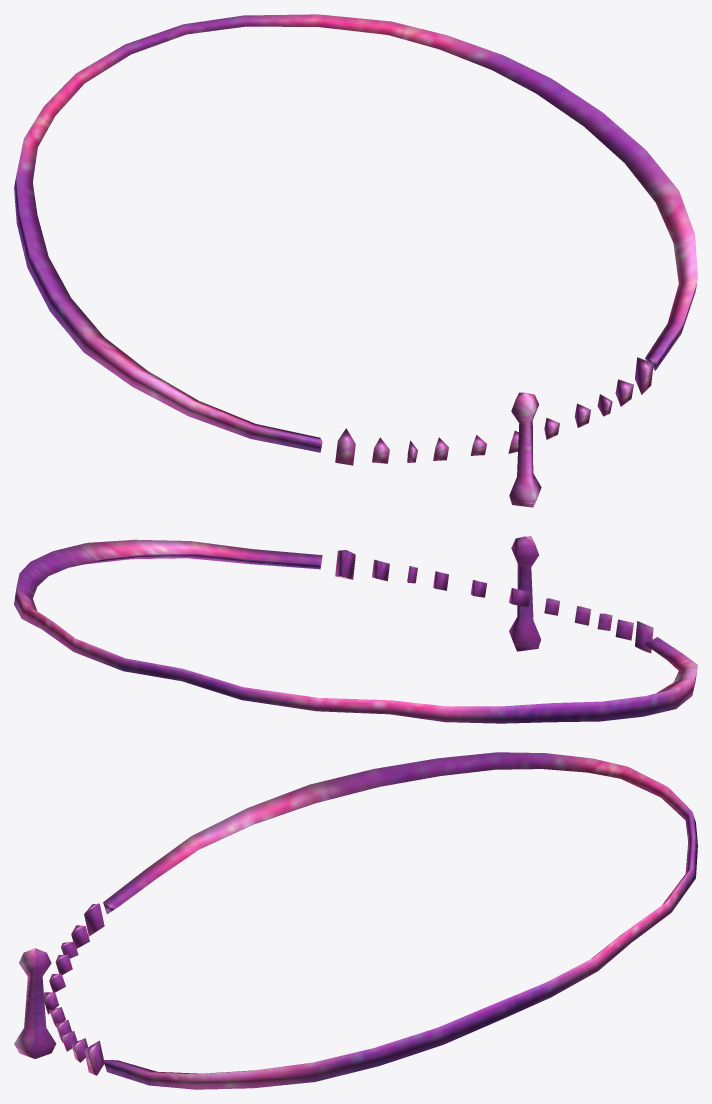
Rendered from Ef_ms_necklace.fbx.
The picture shows the model from 3 angles, top to bottom: view 1: azimuth 30°, elevation 25°; view 2: azimuth 150°, elevation 25°; view 3: azimuth 270°, elevation 25°; orthographic projection. The views are drawn at different scales.
Parts seen in each view (by area): view 1: Ef_ms_necklace; view 2: Ef_ms_necklace; view 3: Ef_ms_necklace.
Part boxes in pixels (bbox=[...]): Ef_ms_necklace: bbox=[14, 14, 697, 507]; Ef_ms_necklace: bbox=[14, 536, 697, 723]; Ef_ms_necklace: bbox=[14, 752, 697, 1089].
Size of the model in its own units: 12.11 by 4.43 by 12.55.
